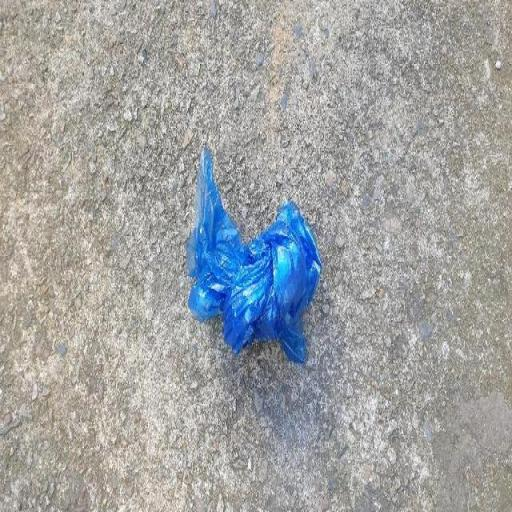plastic-bag: (184, 141, 325, 368)
